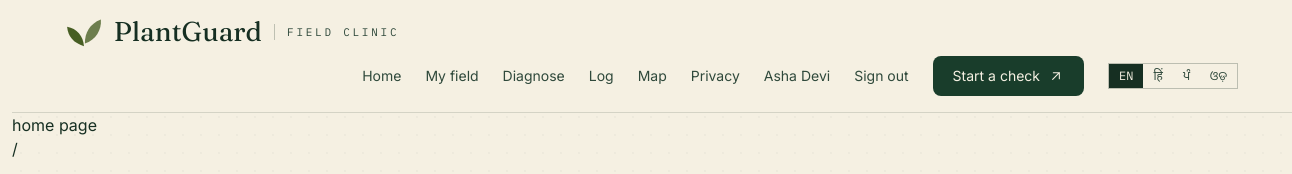
the session › signing out forgets the token and goes home
Click the button "Sign out" at (881, 76), box [854,66,909,86]
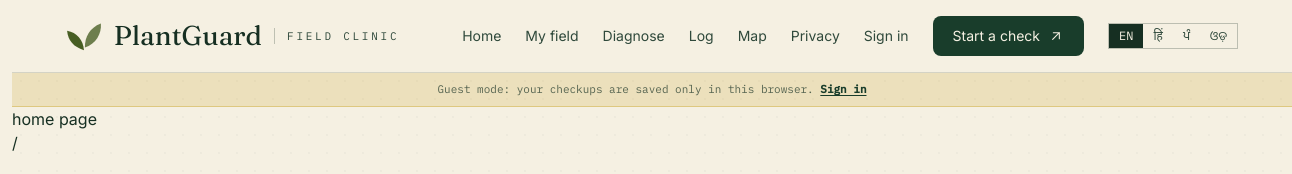
expect the text with test id "where" reads "/": met, box [12,132,18,152]
expect the link "Sign in" next to "Privacy" is shown: met, box [864,26,909,46]
